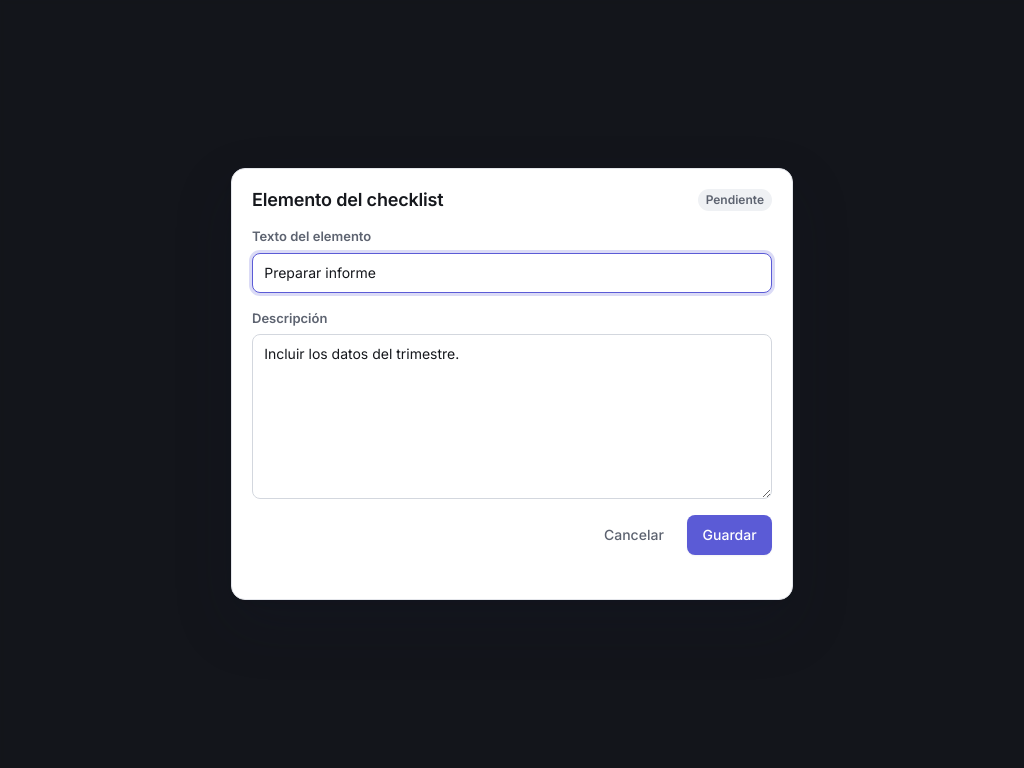
Test: DialogoElementoChecklist › muestra dentro del diálogo el error del servidor
Expected: the text box labelled "Descripción" holds "Incluir los datos del trimestre.", [252,334,772,499]
What coordinates should you click on to do the following:
click the button "Guardar"
I would click on:
 (730, 535)
Its box is [687,515,772,555].
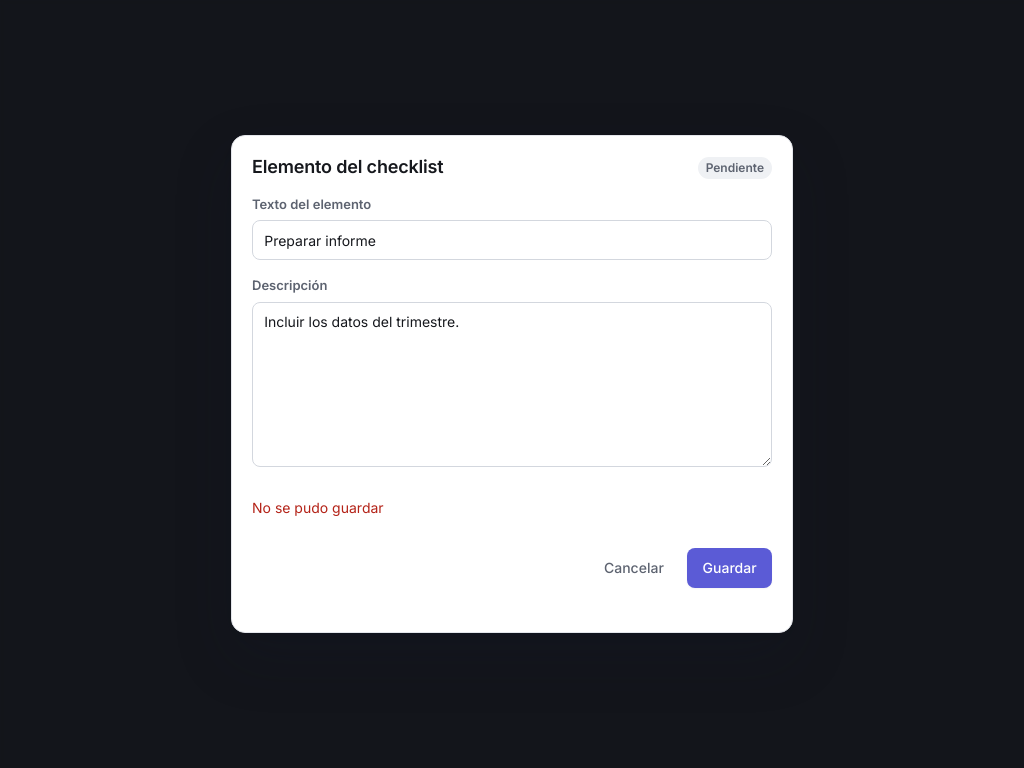
Expected: the message reads "No se pudo guardar", [252,499,384,516]
